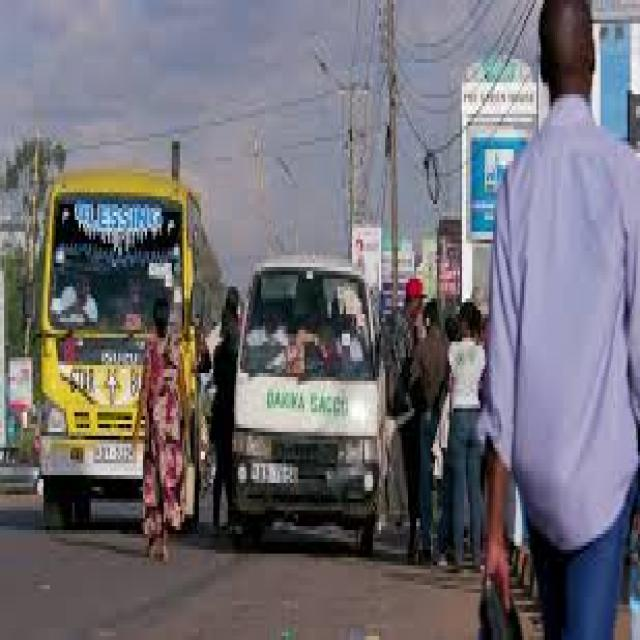bus: (36, 127, 206, 558)
matatu: (234, 232, 394, 574)
